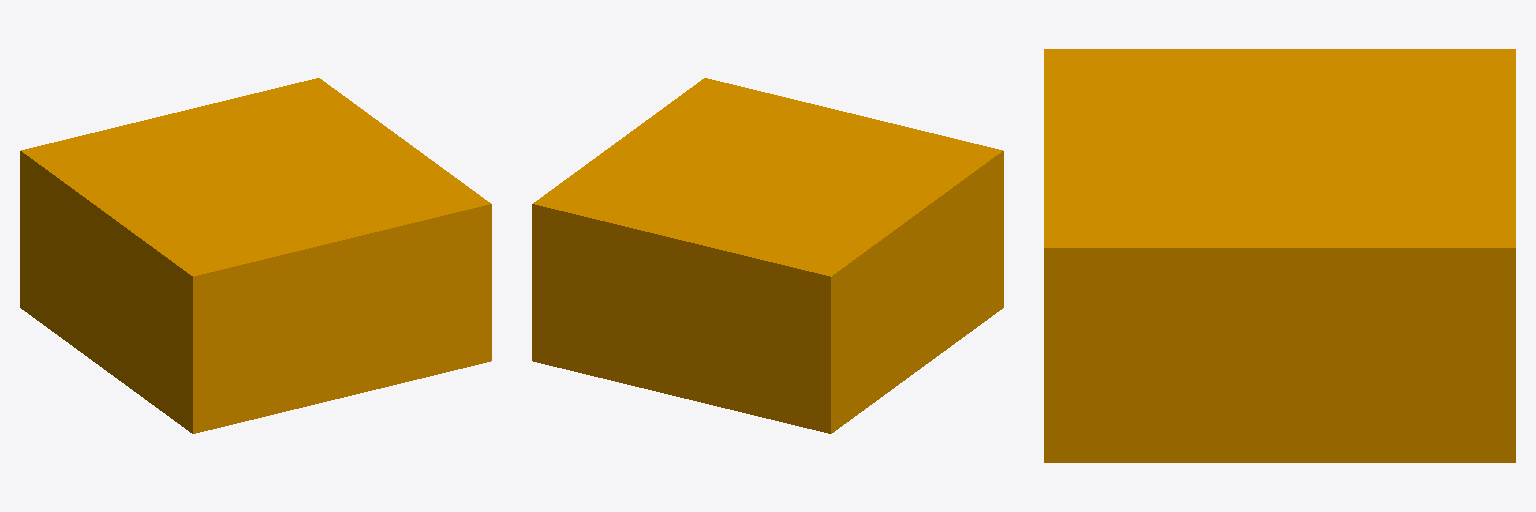
robot.urdf — 2_2B_0:
<robot name="2_2B_0">
  <link name="link">
    <visual>
      <geometry>
        <mesh filename="2_2B_0.obj" scale="1 1 1"/>
      </geometry>
    </visual>
    <collision>
      <geometry>
        <mesh filename="2_2B_0.obj" scale="1 1 1"/>
      </geometry>
    </collision>
    <inertial>
      <mass value="1"/>
      <inertia ixx="1" iyy="1" izz="1" ixy="0" ixz="0" iyz="0"/>
      <origin xyz="0 0 0" rpy="0 0 0"/>
    </inertial>
  </link>
</robot>

--- What the picture shows (computed from the rendered views, not written in the file) ---
Views: 3 orthographic renders of the robot side by side, from view 1: azimuth 30°, elevation 25°; view 2: azimuth 150°, elevation 25°; view 3: azimuth 270°, elevation 25°.
Model 2_2B_0 with 1 links and 0 joints (none), rooted at link, posed all joints at 0.
Links seen in each view (by area): view 1: link; view 2: link; view 3: link.
Boxes of the visible links, x1=… form: link: x1=20, y1=78, x2=491, y2=433; link: x1=532, y1=78, x2=1003, y2=433; link: x1=1044, y1=49, x2=1515, y2=462.
Bounding box of the posed robot: 0.1179 × 0.1179 × 0.0594 m (x, y, z).
Meshes: 1 distinct files referenced, 1 mesh visuals loaded (1 OBJ).